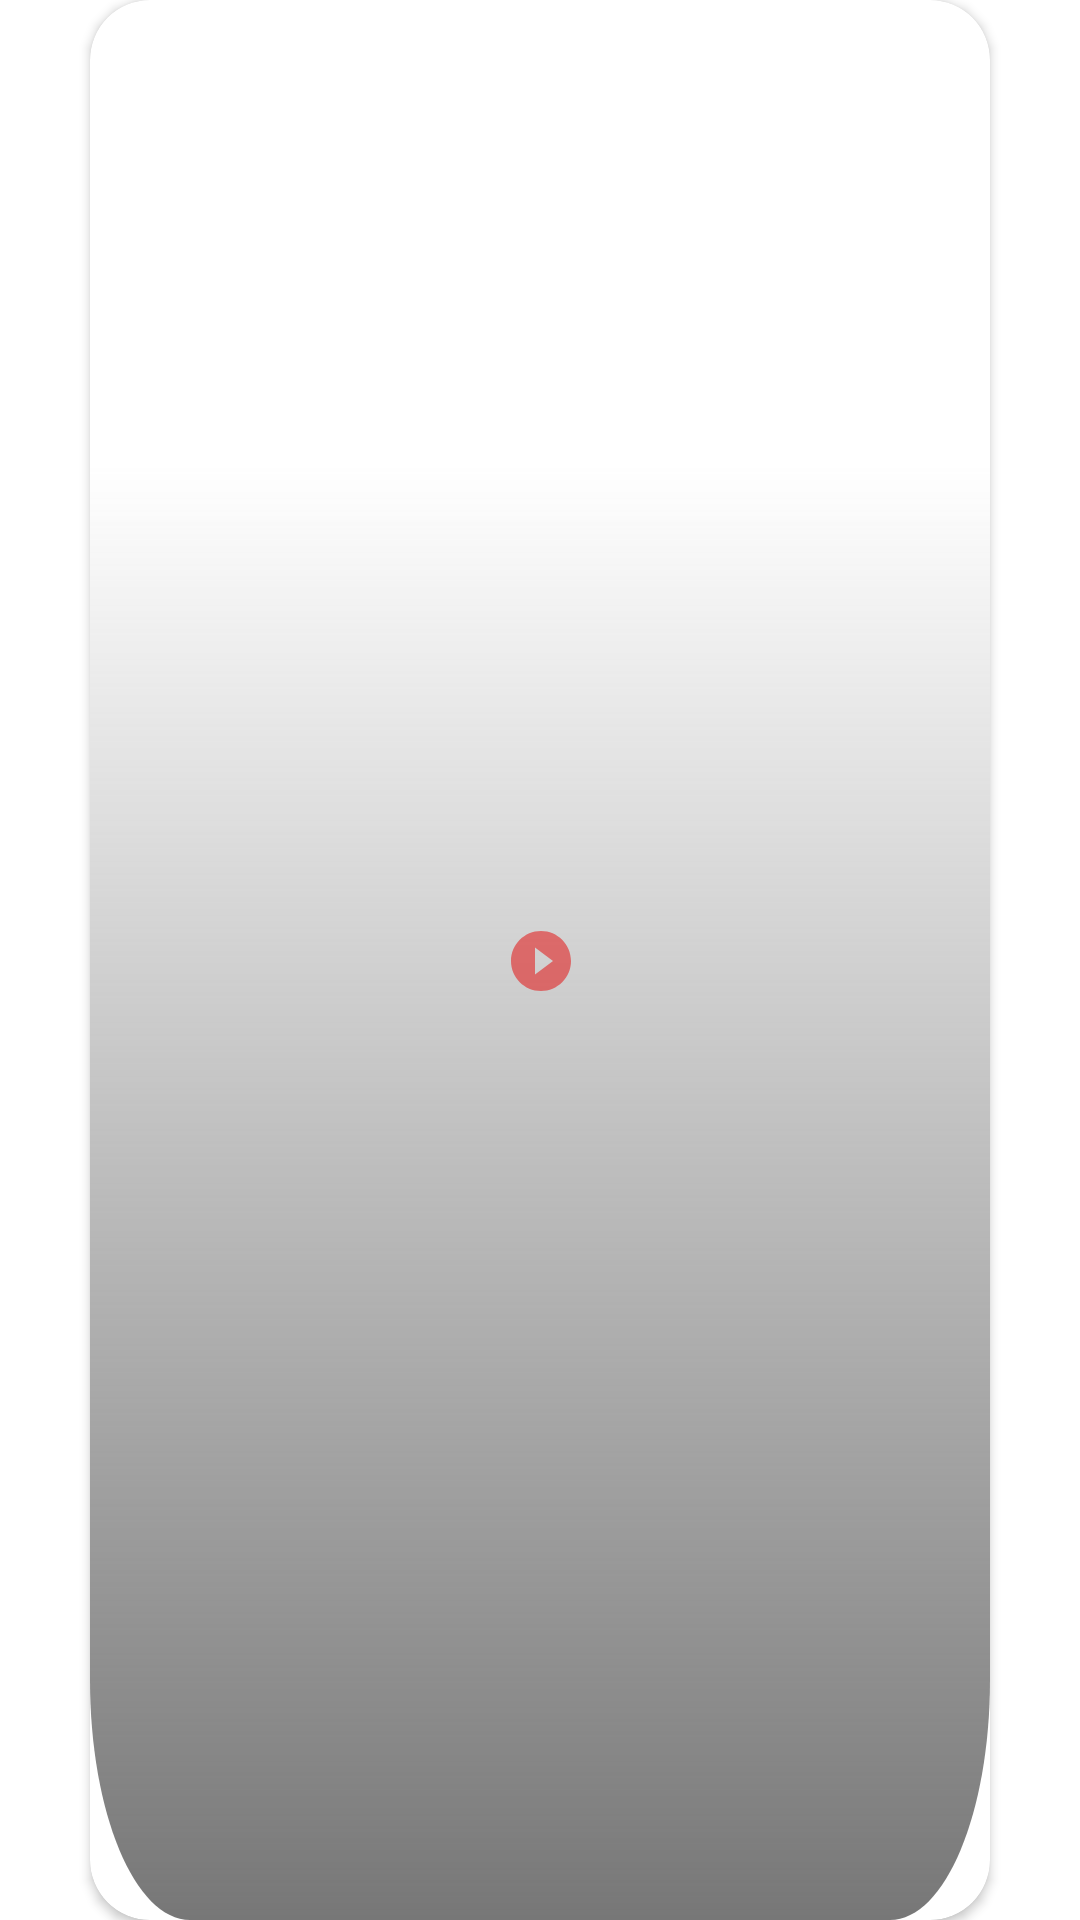

Where icons sit on this 1080*1920 app screen, as box=[x1, y1, x2, y2]:
play: box=[511, 931, 571, 991]
